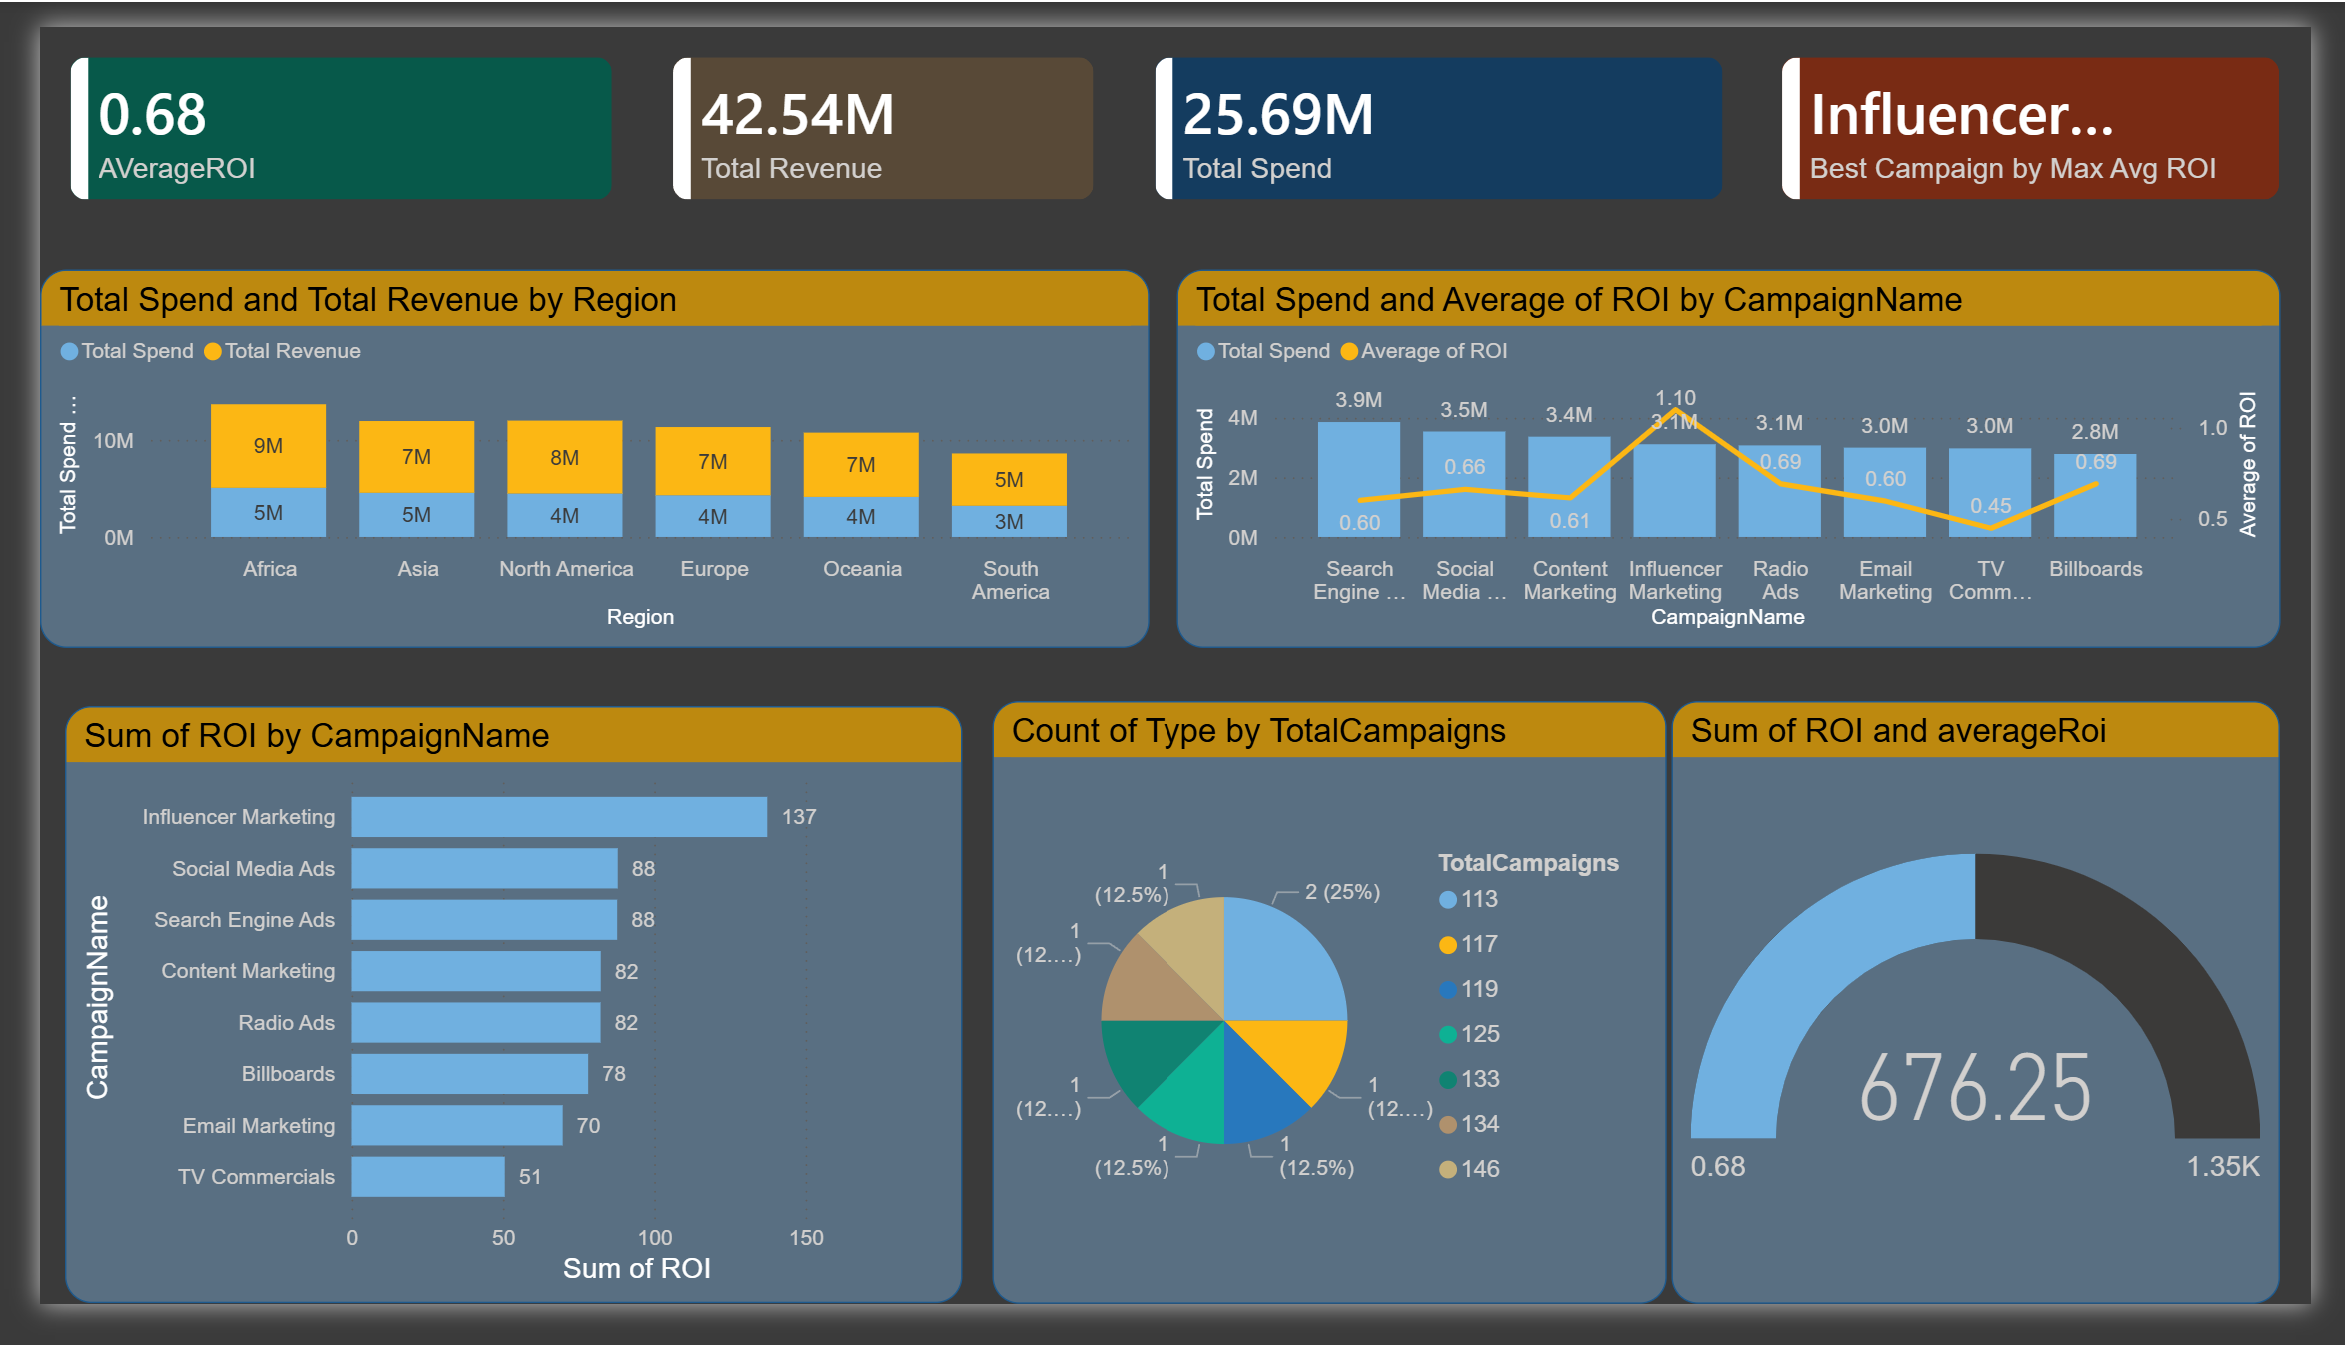

What the dashboard file says about the page in this screenshot:
{"tool":"powerbi","page":{"name":"Overview","canvas":[1280,720],"ordinal":0},"visuals":[{"type":"cardVisual","fields":{"Data":["Sum(marketing campaign performance.Revenue)"]},"box":[340,0,271,114.4],"z":0},{"type":"cardVisual","fields":{"Data":["Sum(marketing campaign performance.Spend)"]},"box":[611,0,354.1,114.4],"z":1000},{"type":"cardVisual","fields":{"Data":["region performance.Measure"]},"box":[0,0,340,114.4],"z":2000},{"type":"columnChart","fields":{"Y":["Sum(marketing campaign performance.Spend)","Sum(marketing campaign performance.Revenue)"],"Category":["region performance.Region"]},"box":[0,136.3,625.1,213.1],"z":3000},{"type":"lineStackedColumnComboChart","fields":{"Category":["marketing campaign performance.CampaignName"],"Y":["Sum(marketing campaign performance.Spend)"],"Y2":["Avg(marketing campaign performance.ROI)"]},"box":[640.8,136.3,622,213.1],"z":4000},{"type":"pieChart","fields":{"Category":["marketing campaign details.TotalCampaigns"],"Y":["CountNonNull(marketing campaign details.Type)"]},"box":[536.3,380.3,380.3,339.7],"z":5000},{"type":"gauge","fields":{"Y":["Sum(marketing campaign performance.ROI)"],"MinValue":["marketing campaign performance.averageRoi"]},"box":[919.9,380.3,342.9,339.7],"z":6000},{"type":"cardVisual","fields":{"Data":["marketing campaign performance.Best Campaign"]},"box":[965.1,0,314.9,114.4],"z":7000},{"type":"barChart","fields":{"Y":["Sum(marketing campaign performance.ROI)"],"Category":["marketing campaign performance.CampaignName"]},"box":[14.6,383.6,505.5,336.4],"z":8000}]}

Visuals, with their boxes in screenshot pixels (x1, y1, x2, y2), scaled from the page's 1280x720 canvas onto the 2345x1345 screenshot:
cardVisual - Sum(marketing campaign performance.Revenue): (623,0,1119,214)
cardVisual - Sum(marketing campaign performance.Spend): (1119,0,1768,214)
cardVisual - region performance.Measure: (0,0,623,214)
columnChart - Sum(marketing campaign performance.Spend) x Sum(marketing campaign performance.Revenue): (0,255,1145,653)
lineStackedColumnComboChart - marketing campaign performance.CampaignName x Sum(marketing campaign performance.Spend): (1174,255,2313,653)
pieChart - marketing campaign details.TotalCampaigns x CountNonNull(marketing campaign details.Type): (983,710,1679,1344)
gauge - Sum(marketing campaign performance.ROI) x marketing campaign performance.averageRoi: (1685,710,2313,1344)
cardVisual - marketing campaign performance.Best Campaign: (1768,0,2344,214)
barChart - Sum(marketing campaign performance.ROI) x marketing campaign performance.CampaignName: (27,717,953,1344)
